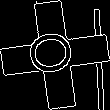O_E: (27, 30, 83, 80)
